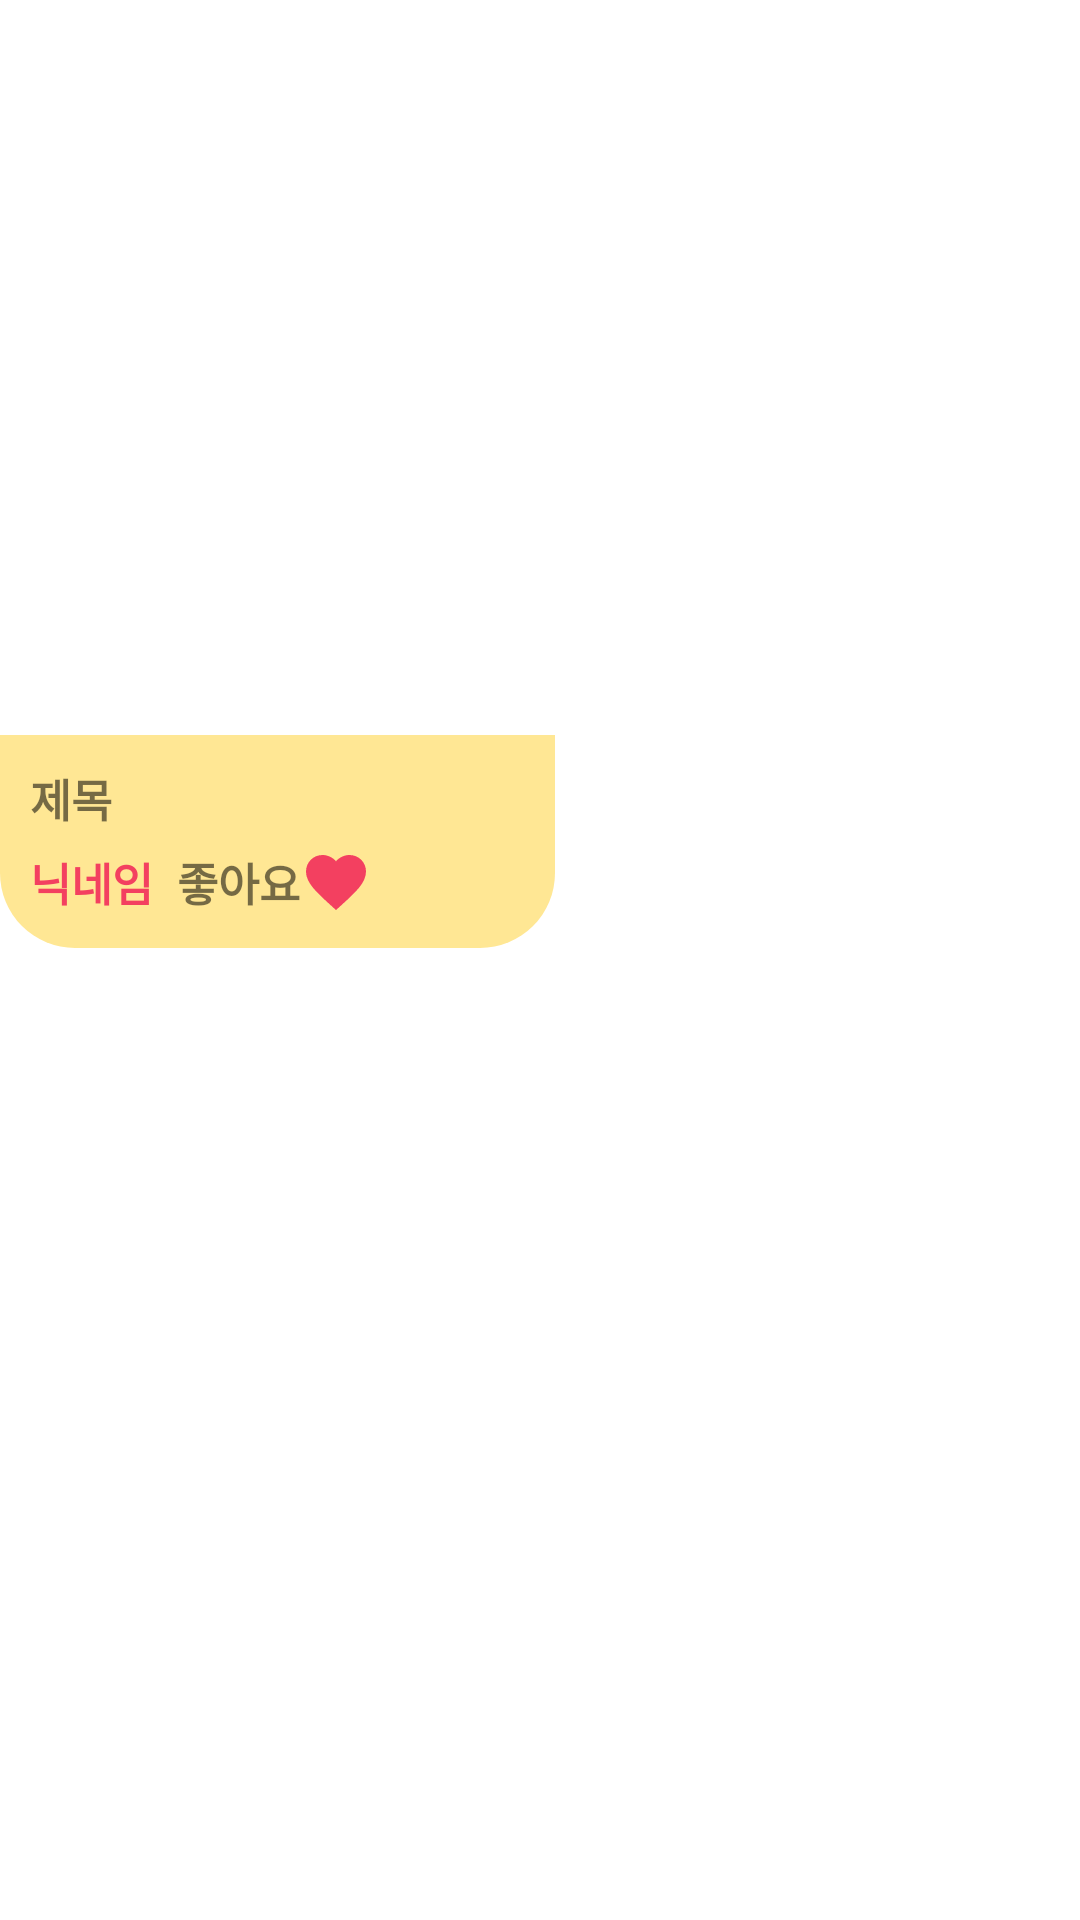

Named icons in this screenshot (1080w x 1920h) and their bounding boxes, (x1, y1, x2, y2):
like: (306, 855, 366, 910)
